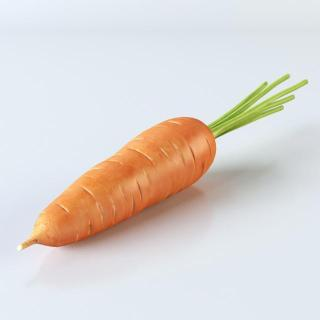carrot: (15, 115, 218, 253)
